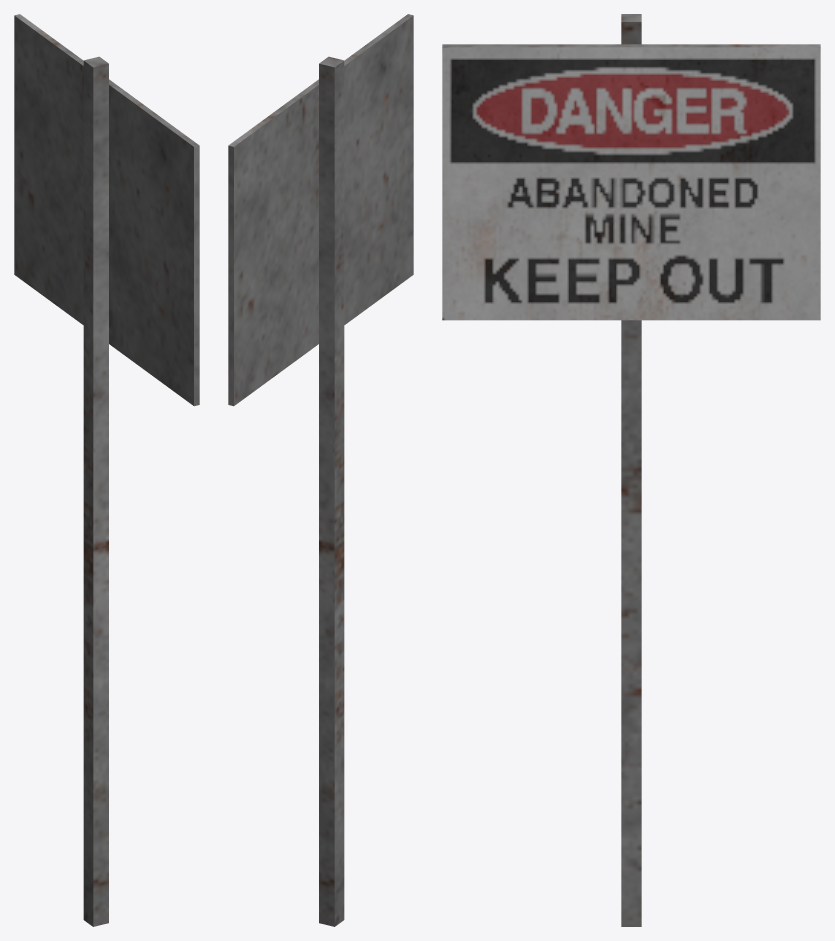
Rendered from Sign_8.fbx.
3 renders of one model, left to right at view 1: azimuth 30°, elevation 25°; view 2: azimuth 150°, elevation 25°; view 3: azimuth 270°, elevation 25°, orthographic. The views are drawn at different scales.
Parts seen in each view (by area): view 1: Sign_8; view 2: Sign_8; view 3: Sign_8.
Part boxes in pixels (x1,y1,x2,y2): Sign_8: [14, 14, 199, 926]; Sign_8: [228, 14, 413, 926]; Sign_8: [442, 14, 820, 926].
Size of the model in its own units: 5.76 by 221 by 83.6.
